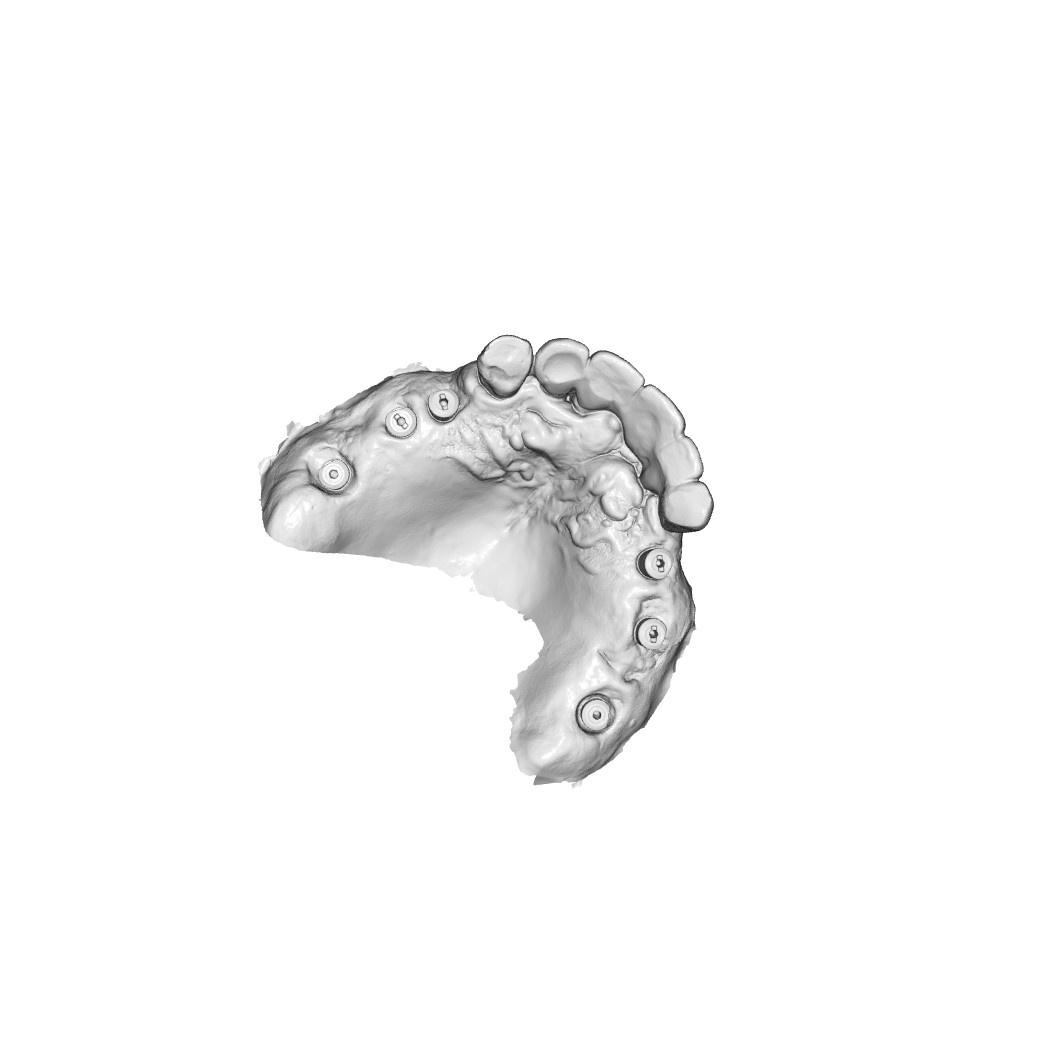canine: (479, 334, 534, 403), (654, 482, 713, 534)
implant: (575, 690, 619, 735), (315, 455, 355, 492)
implant_minus: (636, 544, 676, 586), (632, 615, 669, 654), (427, 387, 463, 422), (386, 404, 419, 438)
incisor: (619, 388, 683, 449), (534, 338, 587, 404), (584, 349, 637, 414), (648, 434, 709, 486)
